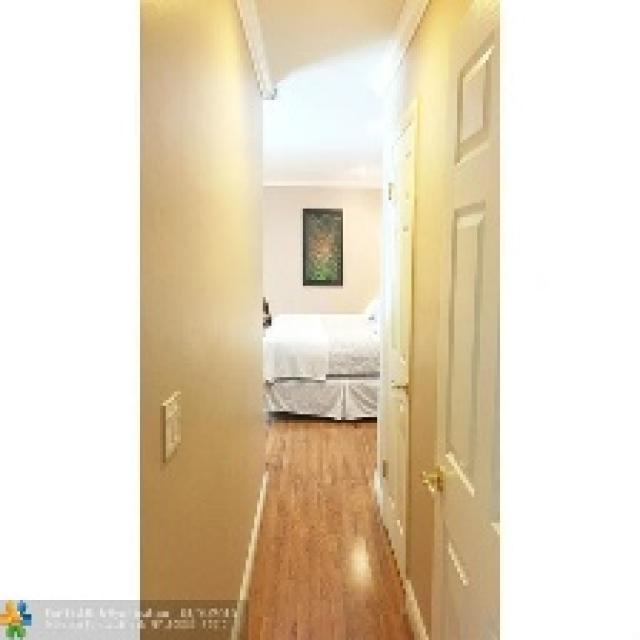Bed: (260, 306, 380, 420)
